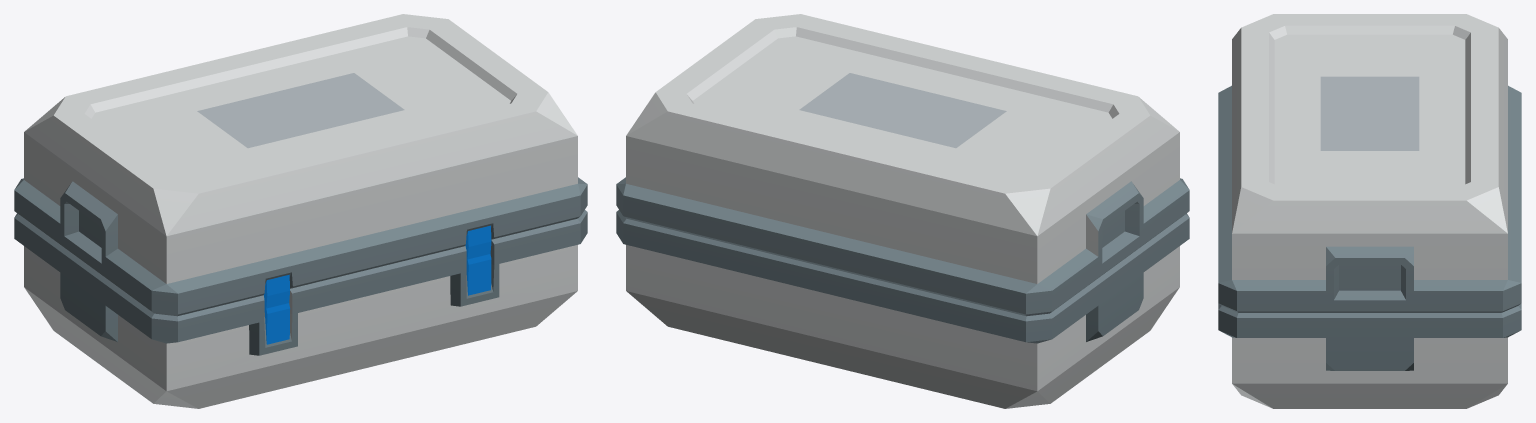
File: Crate_012.glb
The picture shows the model from 3 angles, left to right: view 1: azimuth 30°, elevation 25°; view 2: azimuth 150°, elevation 25°; view 3: azimuth 270°, elevation 25°; orthographic projection. The views are drawn at different scales.
Parts seen in each view (by area): view 1: Crate_012; view 2: Crate_012; view 3: Crate_012.
Part boxes in pixels (bbox=[...]): Crate_012: bbox=[14, 14, 587, 408]; Crate_012: bbox=[616, 14, 1189, 408]; Crate_012: bbox=[1218, 14, 1521, 408].
Bounding box in the file's own units: 1.06 × 0.5 × 0.66.
2 materials, 2 textured.
